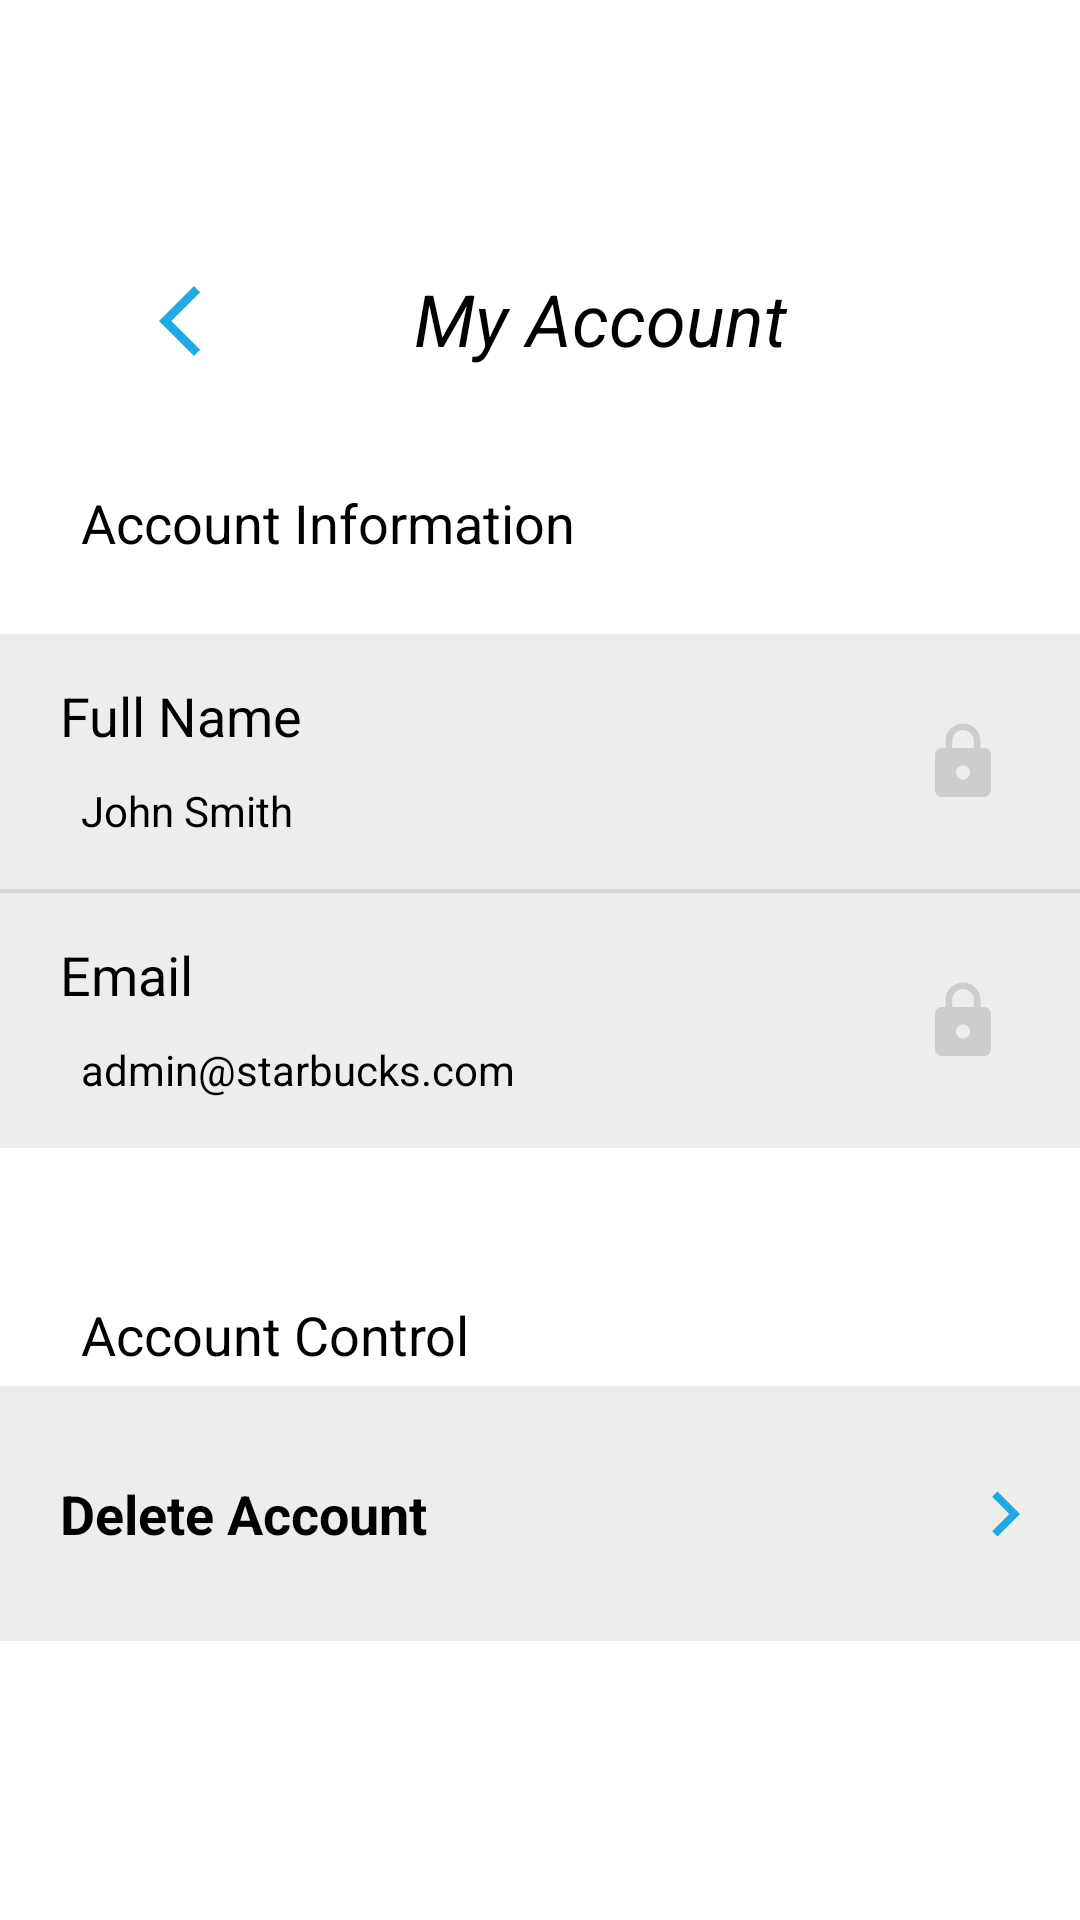

Locate icon controls on the screen. Image size 1080w x 1920h, boxes as (x1, y1, x2, y2).
arrow back: (159, 286, 200, 356)
keyboard arrow right: (992, 1491, 1020, 1537)
lock: (935, 724, 991, 797), (935, 983, 991, 1056)
